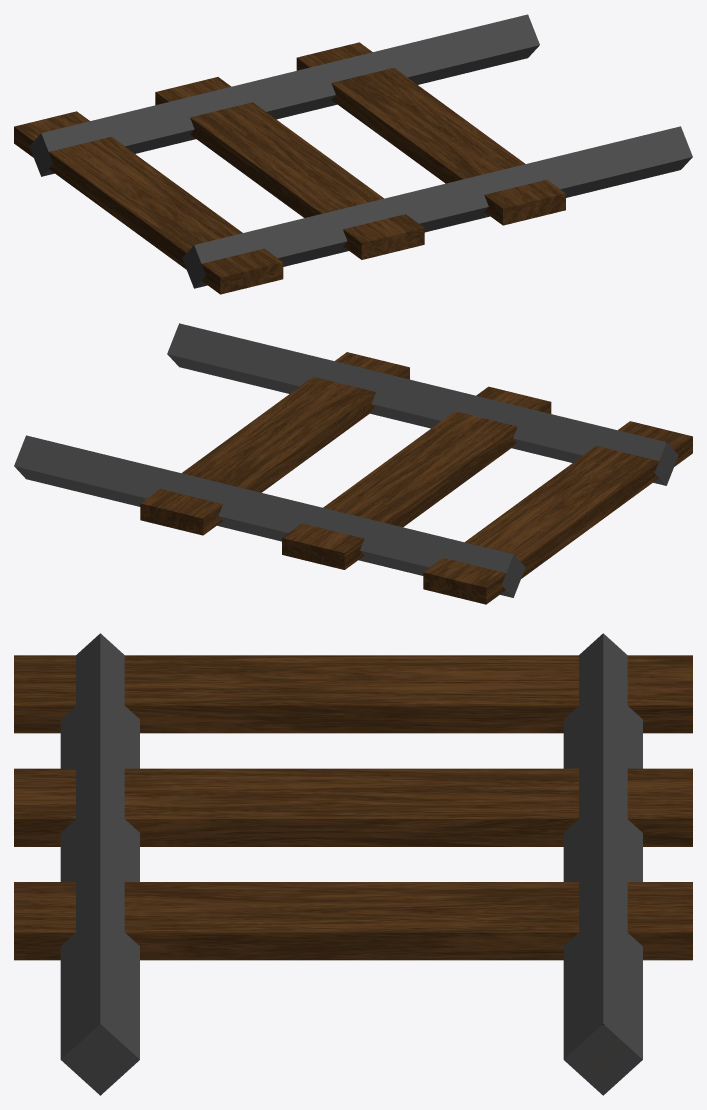
Rendered from Rail.fbx.
3 renders of one model, top to bottom at view 1: azimuth 30°, elevation 25°; view 2: azimuth 150°, elevation 25°; view 3: azimuth 270°, elevation 25°, orthographic. The views are drawn at different scales.
Parts seen in each view (by area): view 1: Rail_Baked; view 2: Rail_Baked; view 3: Rail_Baked.
Part boxes in pixels (left/top/right/bottom): Rail_Baked: left=14, top=14, right=692, bottom=294; Rail_Baked: left=14, top=323, right=692, bottom=604; Rail_Baked: left=14, top=633, right=692, bottom=1095.
Size of the model in its own units: 983 by 84.45 by 722.
1 material, 1 textured.
